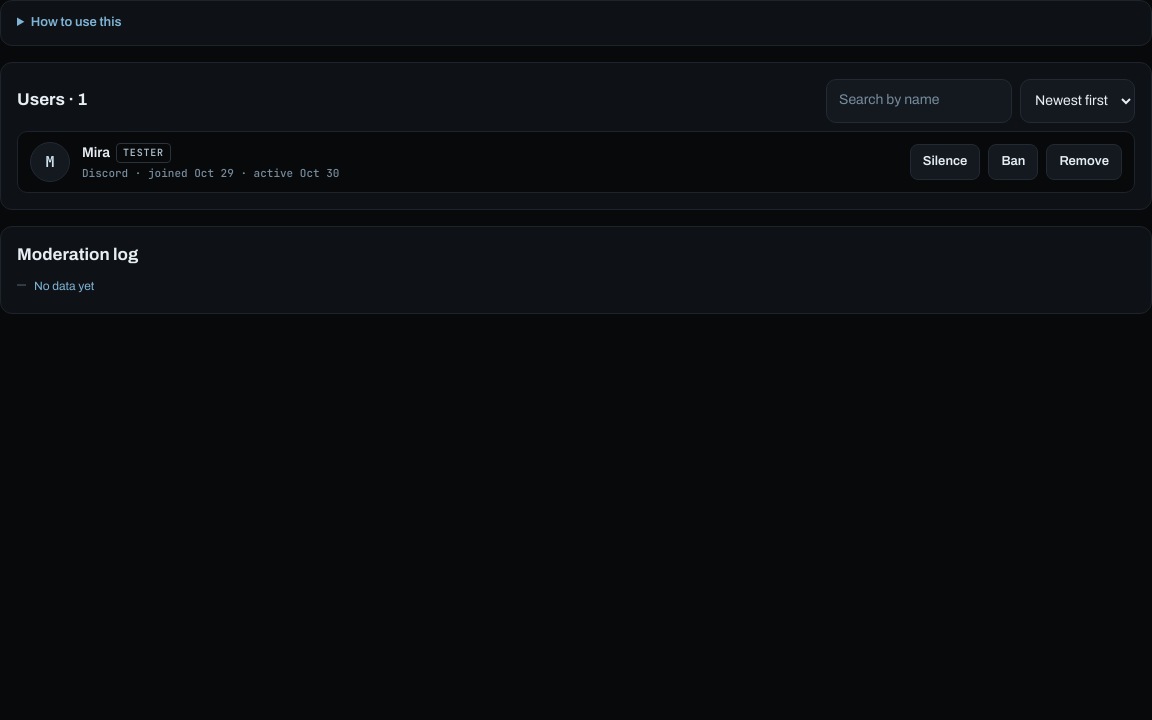
Test: Owner console → Users (T60b) › Remove has no duration: it is the 30-day deletion
The width and height of the screenshot is (1152, 720).
What coordinates should you click on to do the following:
click the button with aria-label "Remove: Mira"
I would click on:
 (1084, 162)
Its box is [1046,144,1122,180].
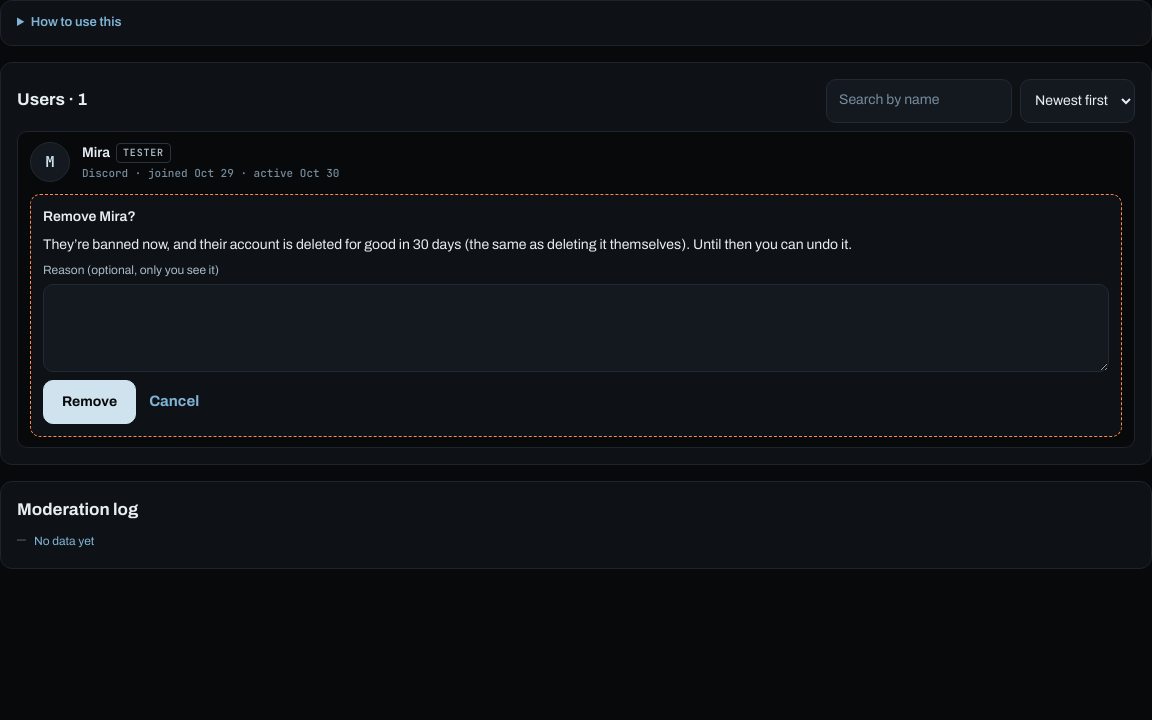
Result: the form "Remove Mira?" shows "deleted for good in 30 days" at [43,237,852,252]
What coordinates should you click on to do the following:
click the button "Remove"
I would click on:
 (90, 402)
Its box is [43,380,136,424].
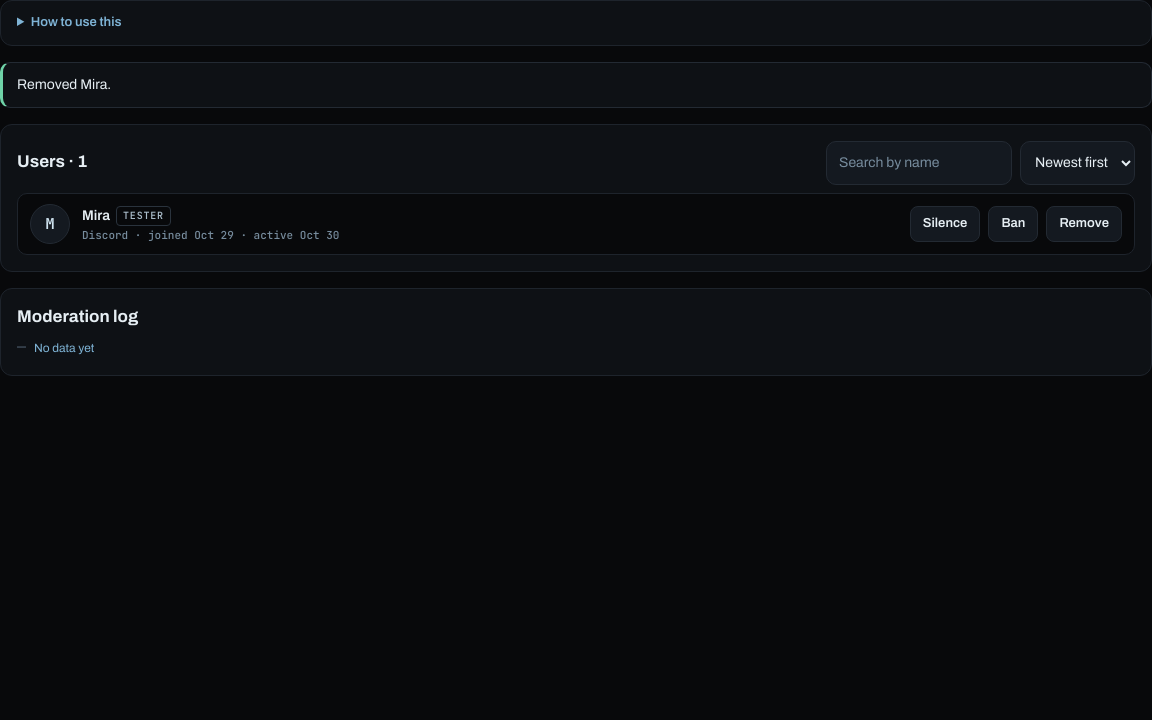
Result: the text "Removed Mira." is shown at [0,62,1151,108]
